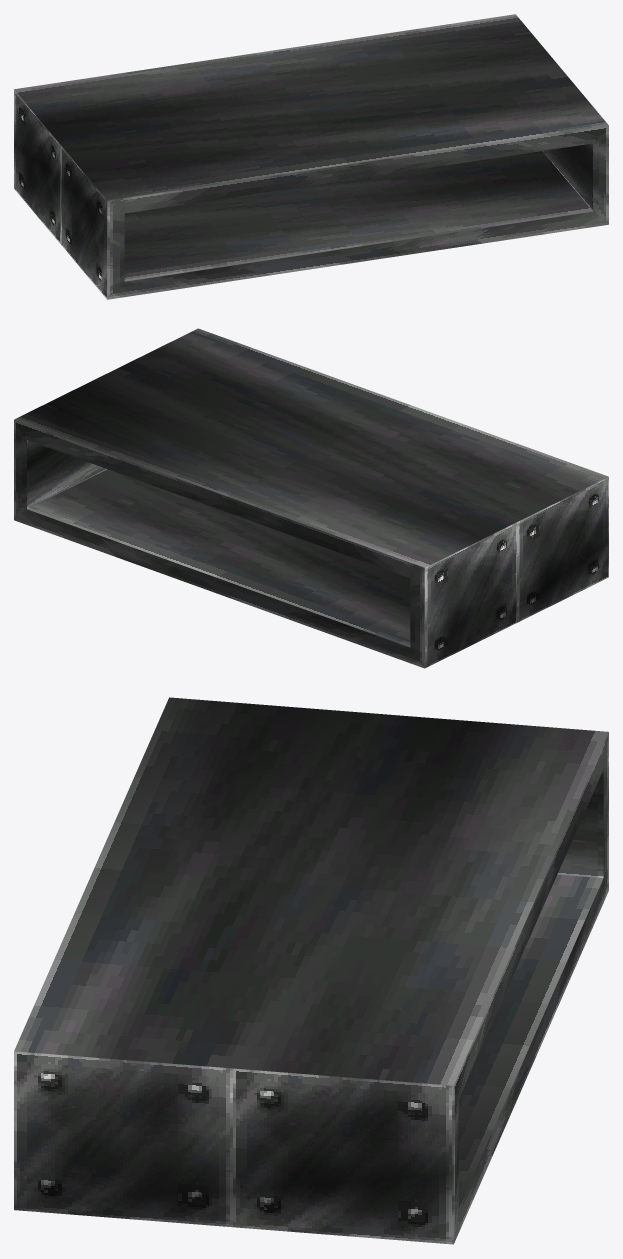
The model's file is SWORDLIGHT20_BRIDGEHOUSING04.fbx.
3 views of the same model, one above another, from view 1: azimuth 30°, elevation 25°; view 2: azimuth 150°, elevation 25°; view 3: azimuth 270°, elevation 25° (orthographic). The views are drawn at different scales.
Visible parts, largest first — view 1: SWORDLIGHT20_BRIDGEHOUSING04; view 2: SWORDLIGHT20_BRIDGEHOUSING04; view 3: SWORDLIGHT20_BRIDGEHOUSING04.
Part boxes in pixels (box(x1,y1,x2,y2)): SWORDLIGHT20_BRIDGEHOUSING04: box(14, 14, 608, 299); SWORDLIGHT20_BRIDGEHOUSING04: box(14, 328, 608, 668); SWORDLIGHT20_BRIDGEHOUSING04: box(14, 697, 608, 1244).
Bounding box in the file's own units: 18259 × 3480 × 11822.
Materials: 1 (1 with a texture image).
